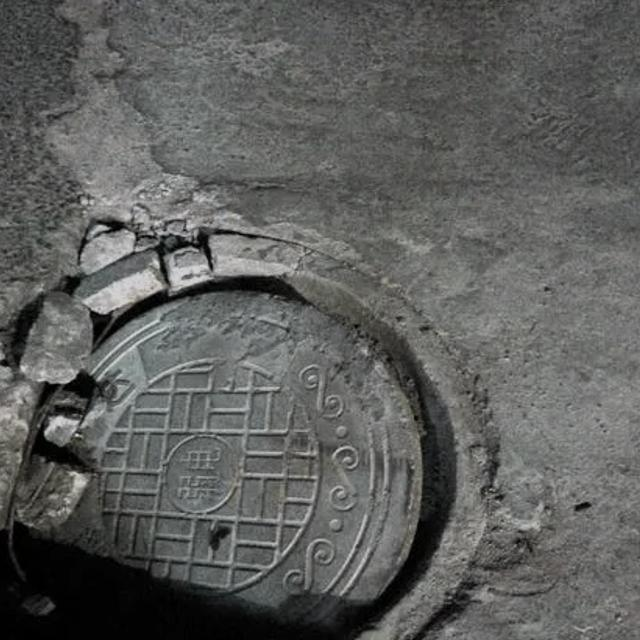circle: (0, 228, 516, 640)
